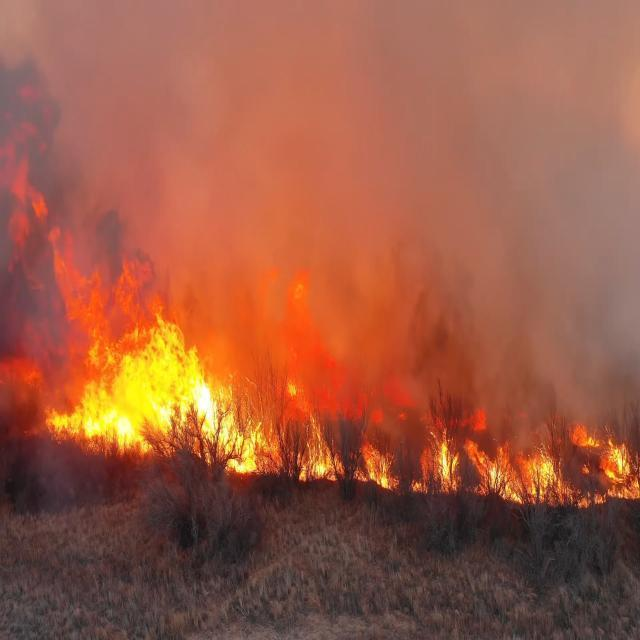Fire: (59, 291, 214, 469), (204, 406, 339, 483), (479, 437, 562, 518), (354, 441, 470, 496)
Smoke: (0, 0, 152, 233)
